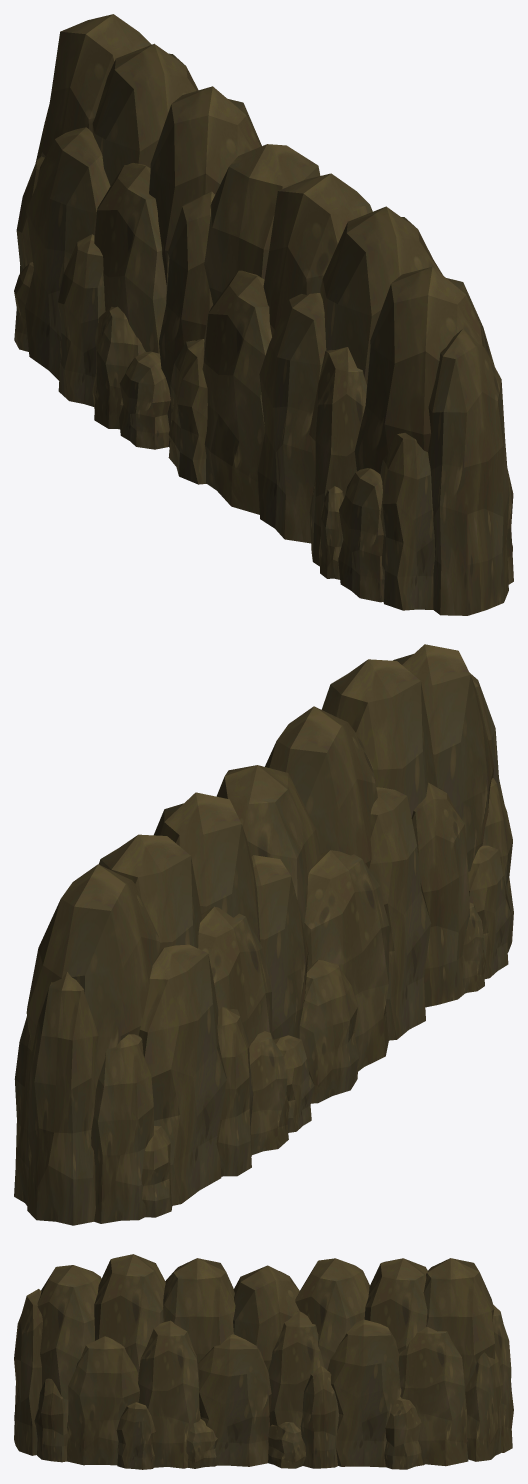
Rendered from ModelWall_Ura_Yellow.fbx.
The picture shows the model from 3 angles, top to bottom: view 1: azimuth 30°, elevation 25°; view 2: azimuth 150°, elevation 25°; view 3: azimuth 270°, elevation 25°; orthographic projection. The views are drawn at different scales.
Parts seen in each view (by area): view 1: Kabe_Ura_Yellow; view 2: Kabe_Ura_Yellow; view 3: Kabe_Ura_Yellow.
Part boxes in pixels (x1=…): Kabe_Ura_Yellow: x1=14, y1=14, x2=513, y2=615; Kabe_Ura_Yellow: x1=14, y1=644, x2=513, y2=1225; Kabe_Ura_Yellow: x1=14, y1=1254, x2=513, y2=1469.
Bounding box in the file's own units: 23.23 × 38.93 × 92.04.
1 material, 1 textured.
